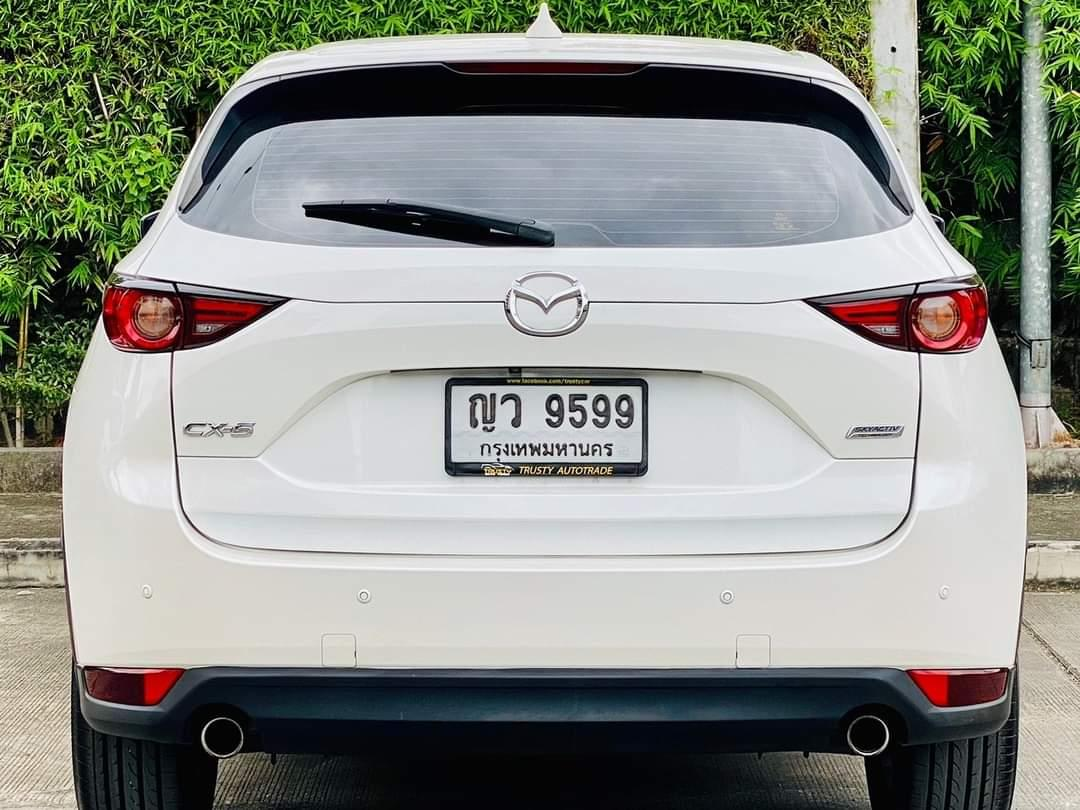license-plate: (444, 373, 649, 480)
